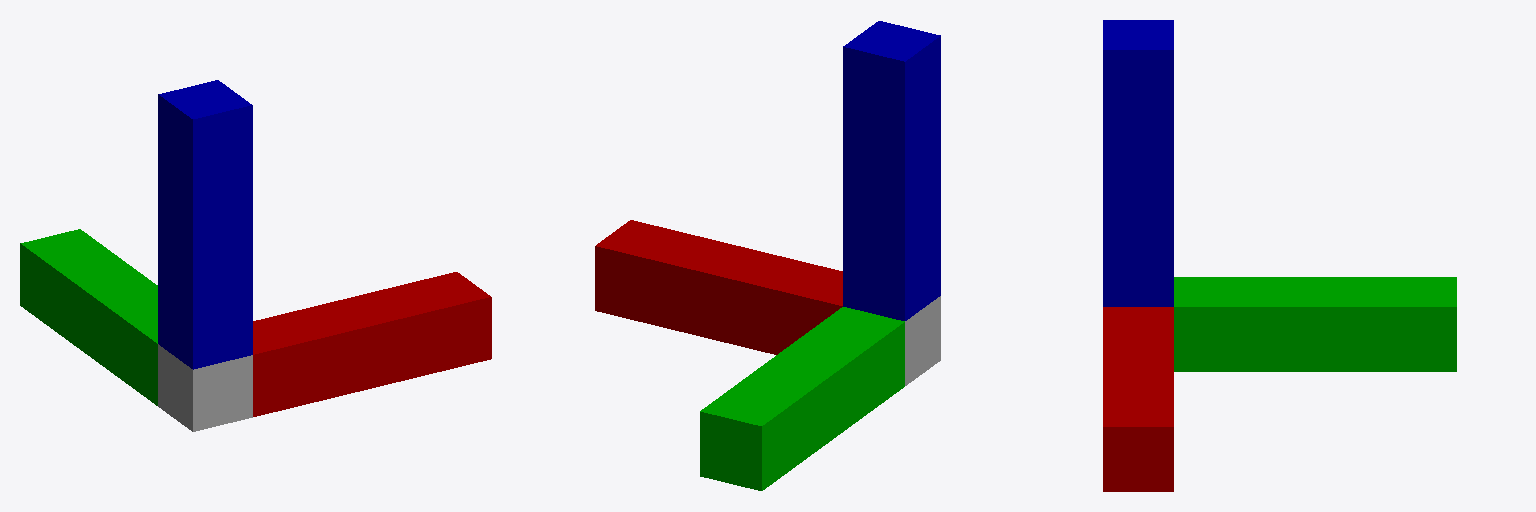
The robot description file, URDF, robot "axis":
<?xml version="1.0" ?>
<robot name="axis">
  <material name="grey">
    <color rgba="0.7 0.7 0.7 1.0"/>
  </material>
  <material name="red">
    <color rgba="0.7 0.0 0.0 1.0"/>
  </material>
  <material name="green">
    <color rgba="0.0 0.7 0.0 1.0"/>
  </material>
  <material name="blue">
    <color rgba="0.0 0.0 0.7 1.0"/>
  </material>
  <link name="base_box">
    <visual>
      <origin rpy="0 0 0" xyz="0 0 0"/>
      <geometry>
        <box size="0.05 0.05 0.05"/>
      </geometry>
      <material name="grey"/>
    </visual>
  </link>
  <joint name="base_to_x" type="fixed">
    <origin rpy="0 0 0" xyz="0 0 0"/>
    <parent link="base_box"/>
    <child link="link_x"/>
  </joint>
  <link name="link_x">
    <visual>
      <origin rpy="0 0 0" xyz="0.125 0 0"/>
      <geometry>
        <box size="0.2 0.05 0.05"/>
      </geometry>
      <material name="red"/>
    </visual>
  </link>
  <joint name="base_to_y" type="fixed">
    <origin rpy="0 0 0" xyz="0 0 0"/>
    <parent link="base_box"/>
    <child link="link_y"/>
  </joint>
  <link name="link_y">
    <visual>
      <origin rpy="0 0 0" xyz="0 0.125 0"/>
      <geometry>
        <box size="0.05 0.2 0.05"/>
      </geometry>
      <material name="green"/>
    </visual>
  </link>
  <joint name="base_to_z" type="fixed">
    <origin rpy="0 0 0" xyz="0 0 0"/>
    <parent link="base_box"/>
    <child link="link_z"/>
  </joint>
  <link name="link_z">
    <visual>
      <origin rpy="0 0 0" xyz="0 0 0.125"/>
      <geometry>
        <box size="0.05 0.05 0.2"/>
      </geometry>
      <material name="blue"/>
    </visual>
  </link>

</robot>

--- What the picture shows (computed from the rendered views, not written in the file) ---
The picture shows the robot from 3 angles, left to right: view 1: azimuth 30°, elevation 25°; view 2: azimuth 150°, elevation 25°; view 3: azimuth 270°, elevation 25°; orthographic projection.
Robot: axis — 4 links, 3 joints (3 fixed); root link base_box; default pose: all joints at 0.
Visible links, largest first — view 1: link_z, link_x, link_y, base_box; view 2: link_z, link_x, link_y, base_box; view 3: link_y, link_z, link_x.
Link boxes in pixels (box(x1,y1,x2,y2)): link_z: box(158, 80, 252, 369); link_x: box(253, 272, 491, 416); link_y: box(20, 229, 157, 405); base_box: box(158, 344, 252, 431); link_z: box(843, 21, 940, 320); link_x: box(595, 220, 842, 354); link_y: box(700, 307, 904, 490); base_box: box(905, 296, 940, 385); link_y: box(1174, 277, 1456, 371); link_z: box(1103, 20, 1173, 306); link_x: box(1103, 307, 1173, 491).
Size in the robot's own frame: 0.25 by 0.25 by 0.25 metres.
Geometry: primitives only (box / cylinder / sphere), no mesh files.